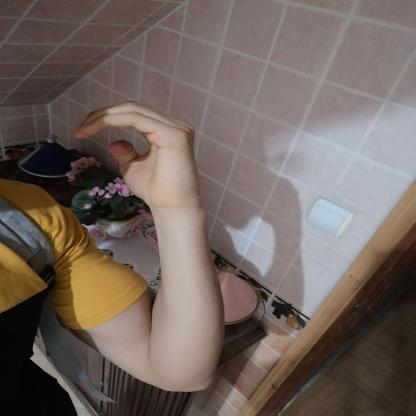JEEM: (58, 88, 222, 219)
